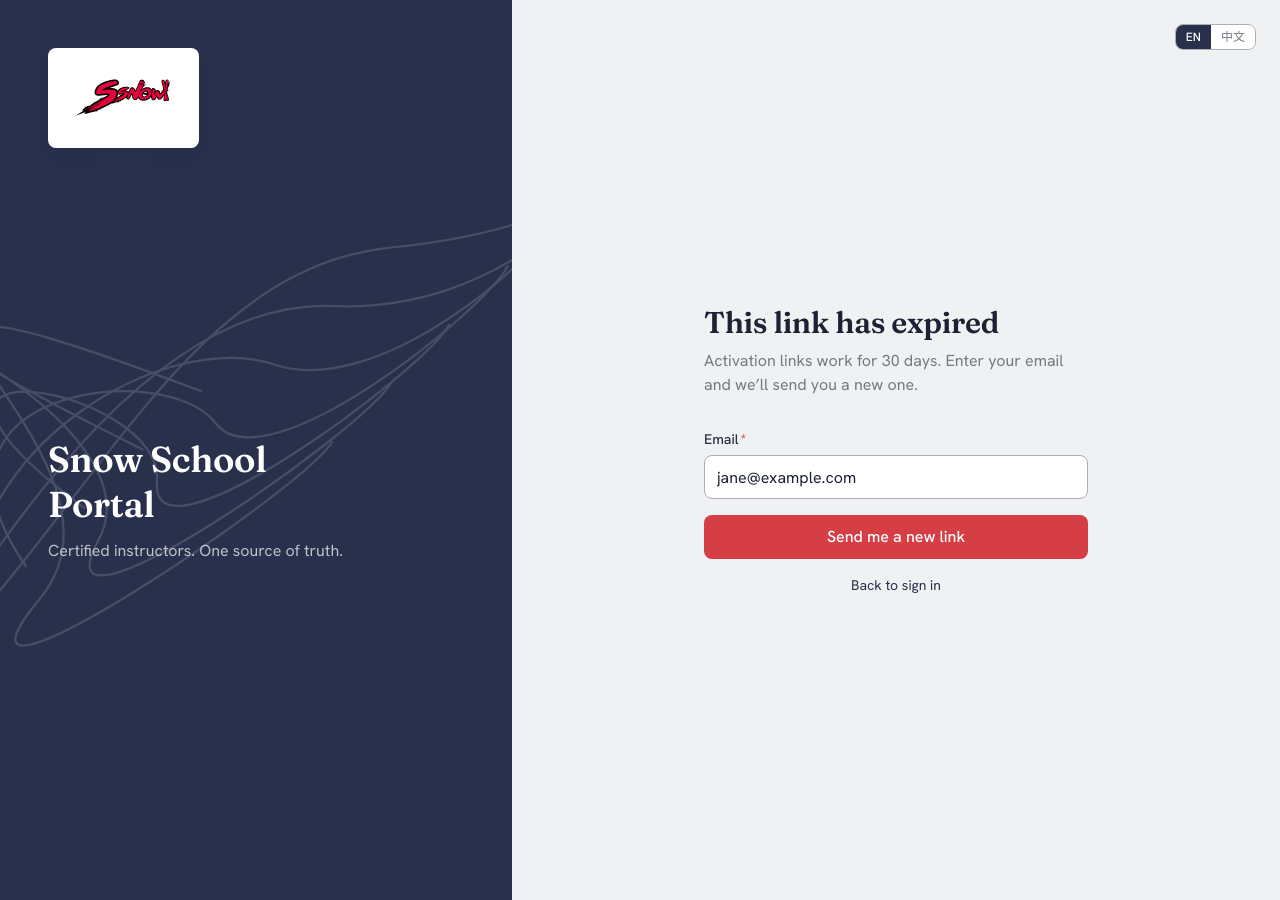
ActivatePage › asks the user to wait when too many new links were requested
Click the button named "Send me a new link": (896, 537) 704,515 -> 1088,559
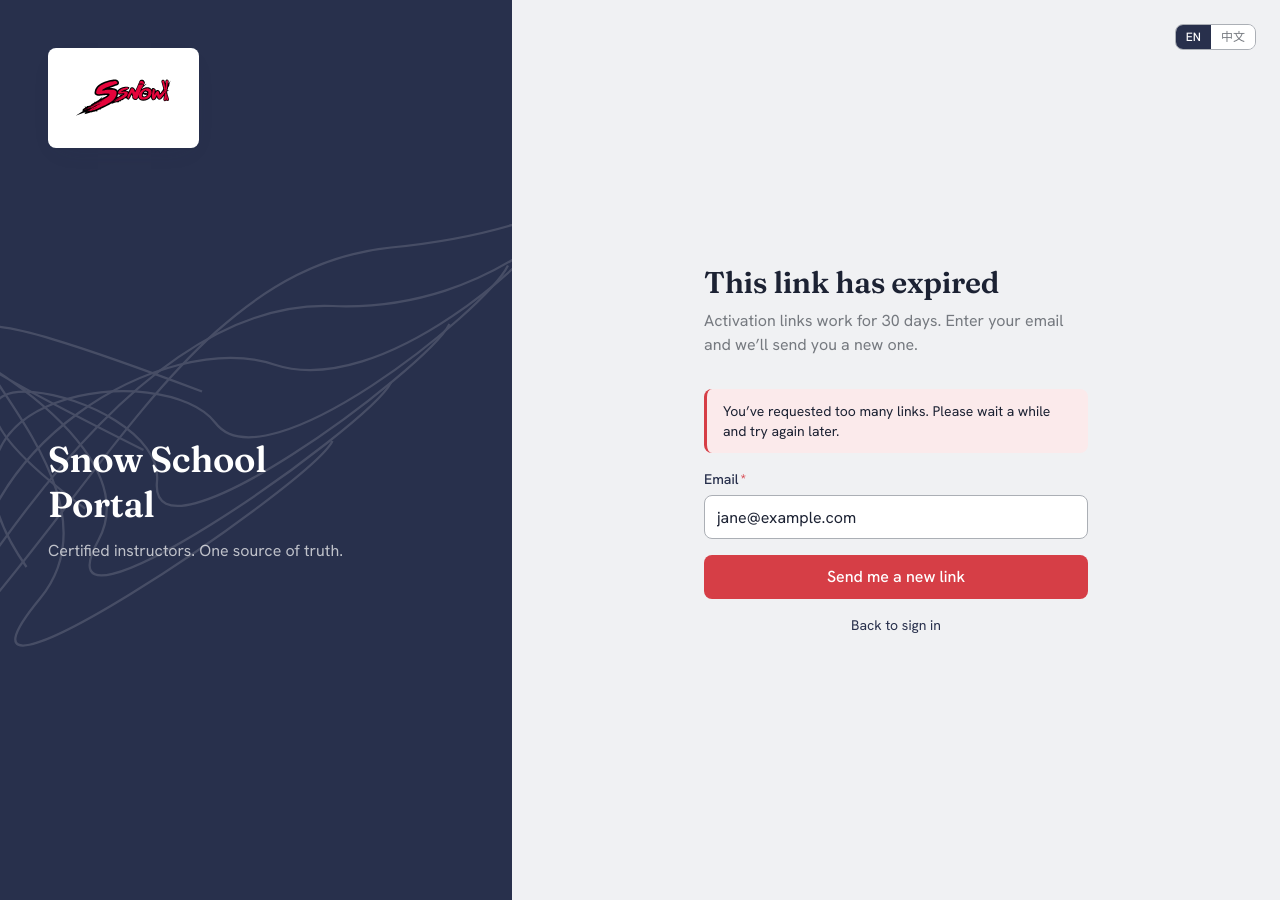
expect the text "You’ve requested too many links. Please wait a while and try again later." is shown: met, box 723,401 -> 1072,441
